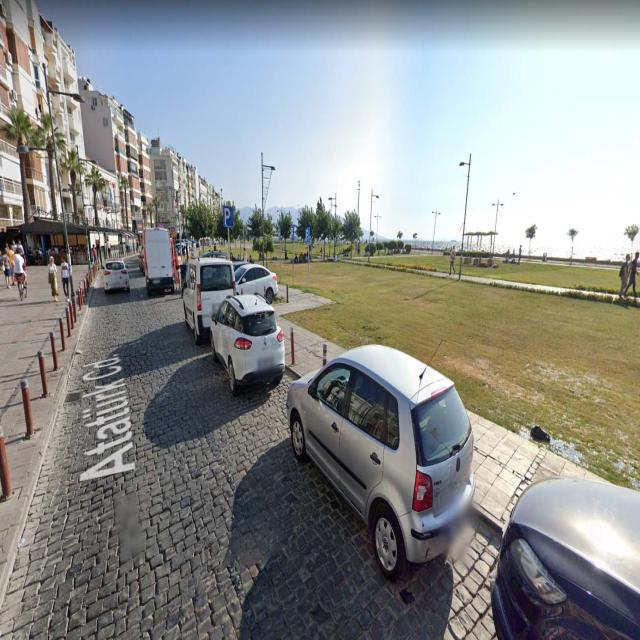park: (224, 205, 233, 226)
